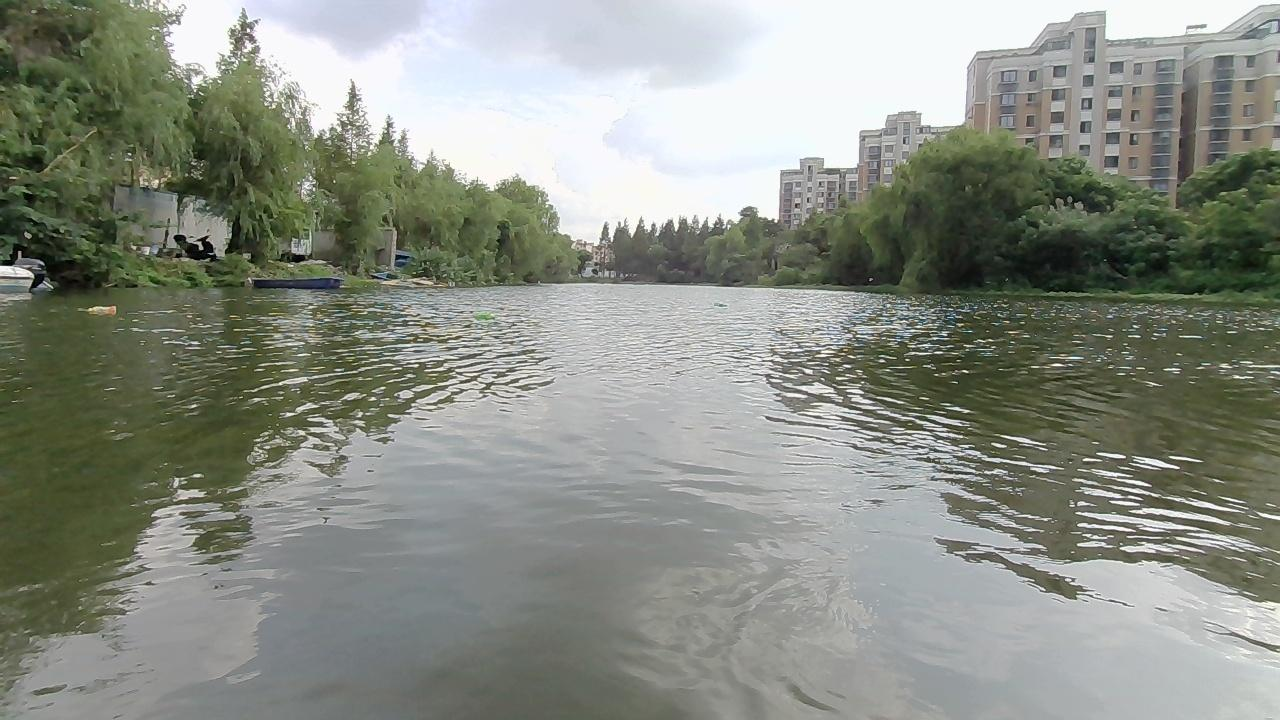bottle: (86, 302, 121, 316), (469, 309, 495, 322)
